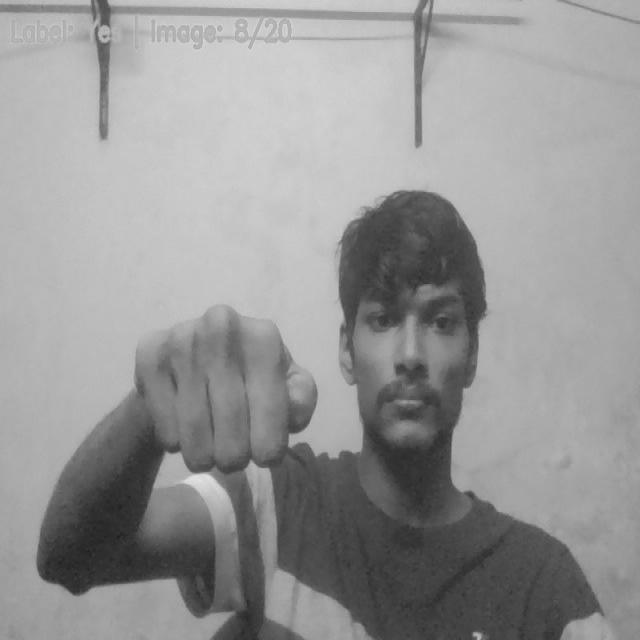Yes: (130, 299, 322, 477)
